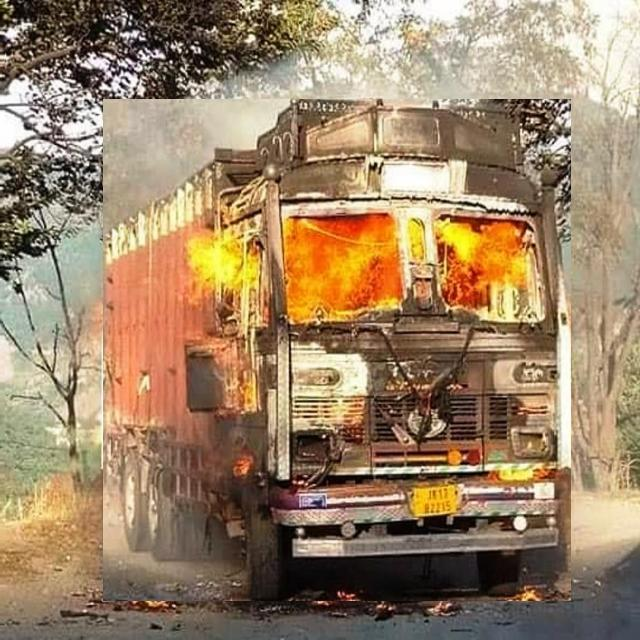accident: (103, 100, 570, 601)
